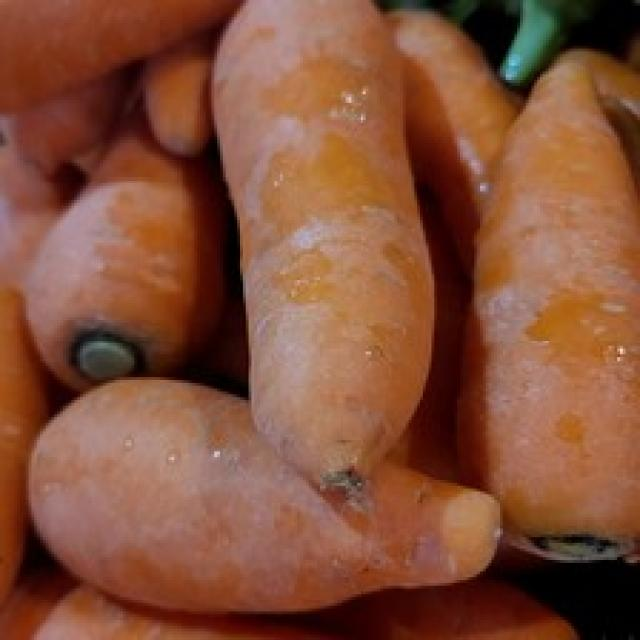Fresh_Carrot: (20, 376, 513, 596), (466, 49, 640, 568)
